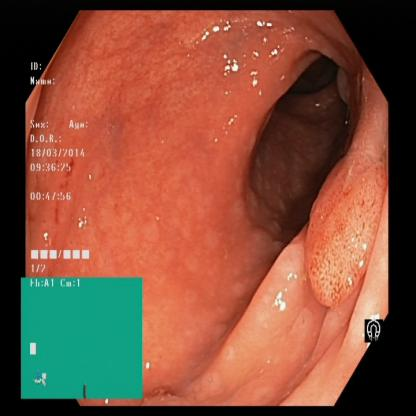Labels: (24, 58, 96, 277), (23, 278, 144, 398)
Polyps: (281, 130, 379, 296)
